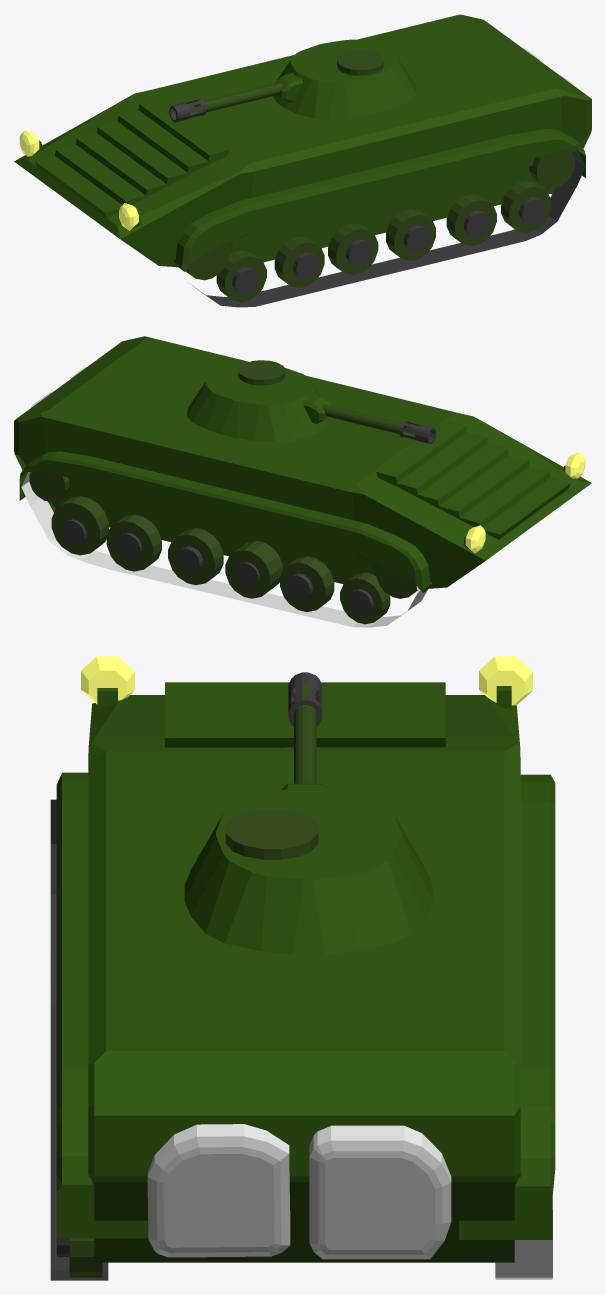
The model's file is BMP1(med poly).fbx.
The picture shows the model from 3 angles, top to bottom: view 1: azimuth 30°, elevation 25°; view 2: azimuth 150°, elevation 25°; view 3: azimuth 270°, elevation 25°; orthographic projection. The views are drawn at different scales.
Visible parts, largest first — view 1: Cube, Cube.005, Cube.041, Cube.025, Cube.001, Plane.001, Cube.019, Cube.021, Cube.003, Cube.034, Cube.042, Cube.002; view 2: Cube, Cube.025, Cube.005, Cube.041, Cube.001, Plane, Cube.019, Cube.021, Cube.003, Cube.034, Cube.042, Cube.002; view 3: Cube, Cube.005, Cube.001, Cube.036, Cube.037, Cube.041, Cube.021, Plane.001, Cube.034, Plane, Cube.003, Cube.042 (+1 smaller).
Boxes of the visible parts, <box> form: Cube: <box>14,14,591,267</box>; Cube.005: <box>174,129,585,271</box>; Cube.041: <box>35,98,229,217</box>; Cube.025: <box>185,150,575,301</box>; Cube.001: <box>273,39,416,119</box>; Plane.001: <box>192,146,585,307</box>; Cube.019: <box>232,197,545,294</box>; Cube.021: <box>337,50,383,75</box>; Cube.003: <box>195,82,282,116</box>; Cube.034: <box>19,130,138,230</box>; Cube.042: <box>169,99,206,122</box>; Cube.002: <box>274,73,302,102</box>; Cube: <box>14,336,591,588</box>; Cube.025: <box>29,471,417,624</box>; Cube.005: <box>19,451,432,592</box>; Cube.041: <box>376,420,570,539</box>; Cube.001: <box>187,363,330,442</box>; Plane: <box>21,472,427,627</box>; Cube.019: <box>61,519,373,615</box>; Cube.021: <box>238,360,285,385</box>; Cube.003: <box>322,404,410,437</box>; Cube.034: <box>465,452,585,553</box>; Cube.042: <box>399,421,436,444</box>; Cube.002: <box>303,395,331,423</box>; Cube: <box>88,695,520,1262</box>; Cube.005: <box>56,772,555,1239</box>; Cube.001: <box>184,788,432,954</box>; Cube.036: <box>309,1125,451,1259</box>; Cube.037: <box>147,1124,290,1257</box>; Cube.041: <box>165,682,445,747</box>; Cube.021: <box>225,809,318,859</box>; Plane.001: <box>50,799,108,1280</box>; Cube.034: <box>81,656,532,705</box>; Plane: <box>495,1195,552,1279</box>; Cube.003: <box>293,705,316,783</box>; Cube.042: <box>288,672,321,726</box>.
Bounding box in the file's own units: 1843 × 614 × 833.
